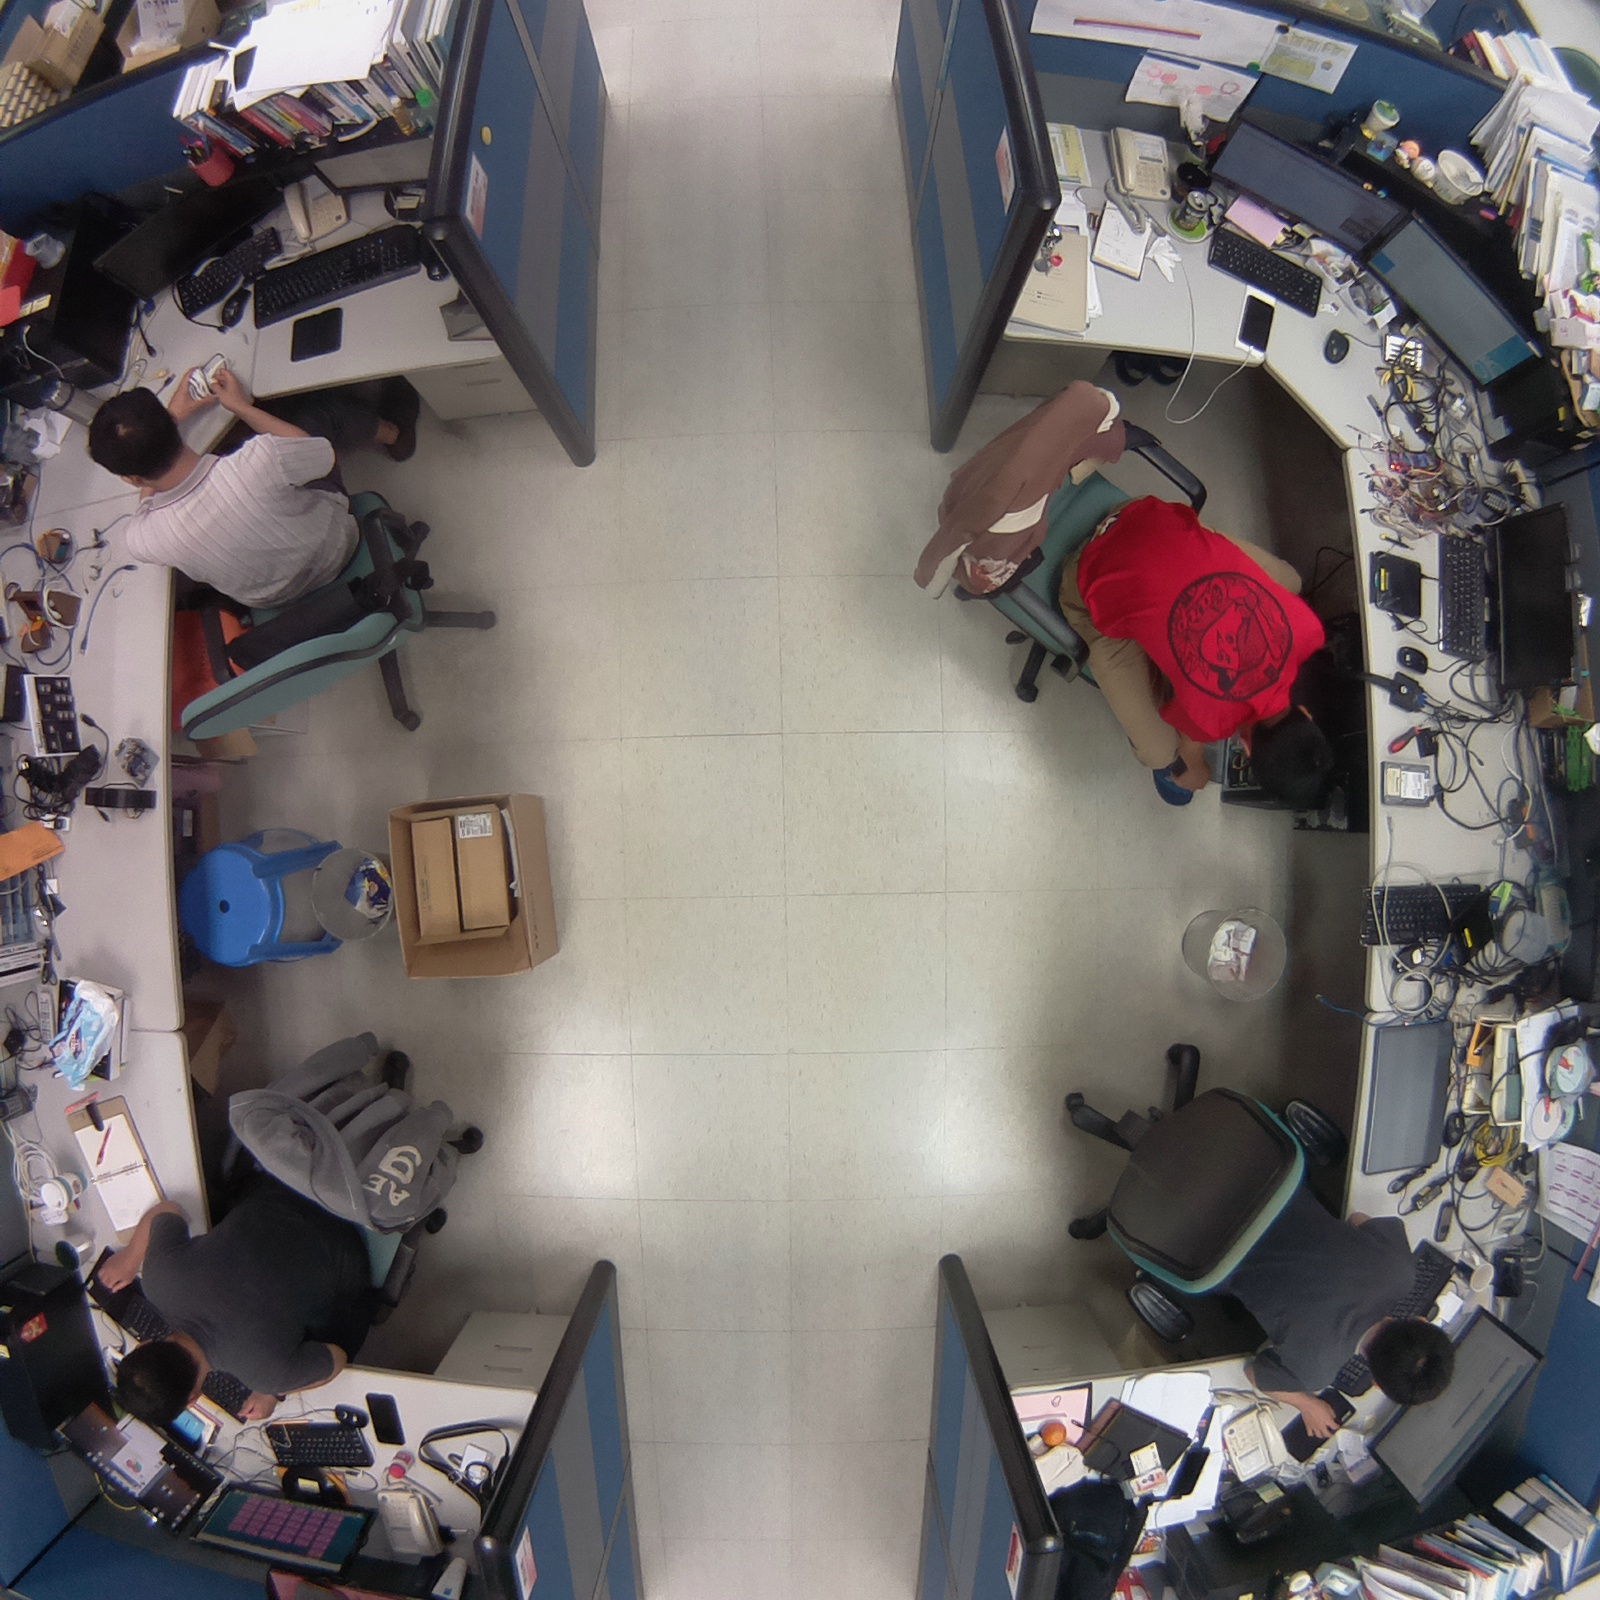head: (1235, 702, 1350, 818), (82, 382, 192, 480), (105, 1331, 205, 1433), (1364, 1312, 1462, 1416)
sitting: (901, 368, 1360, 832), (1050, 1022, 1461, 1449), (71, 369, 504, 752), (81, 1024, 494, 1423)
